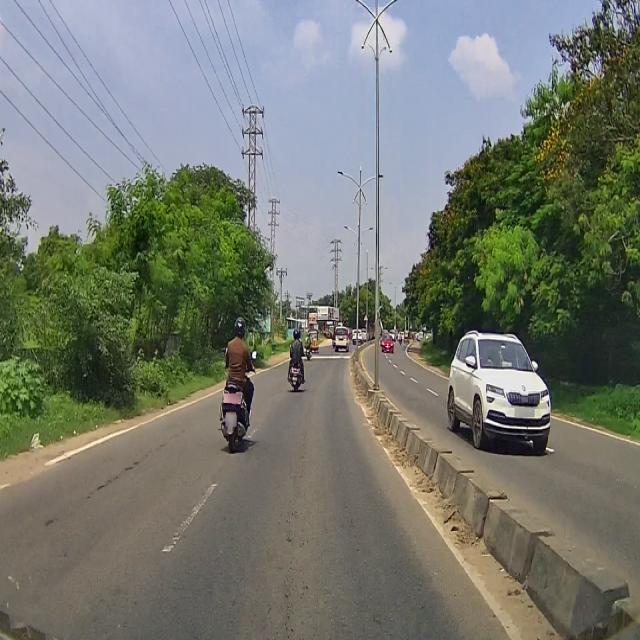car ahead at: (441, 319, 558, 454)
motorcycle ahead at: (214, 374, 258, 451), (284, 355, 307, 398)
